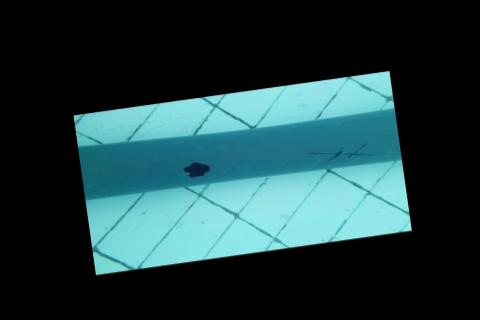kebocoran: (180, 158, 210, 180)
keretakan: (307, 141, 372, 166)
